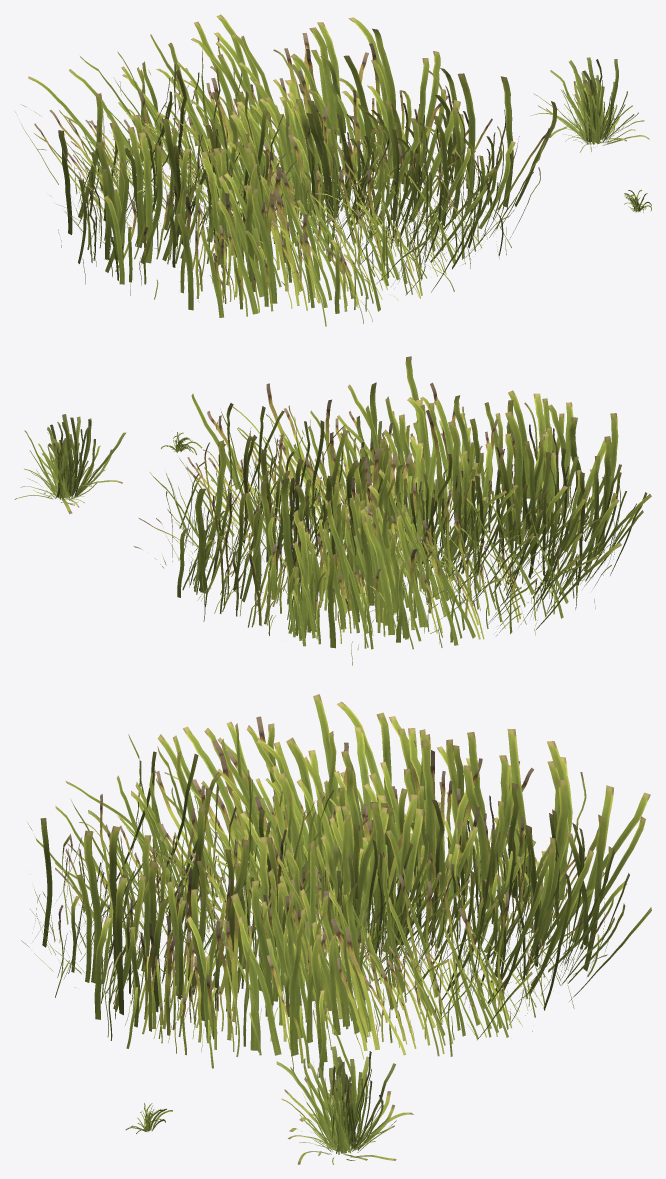
The model's file is grass.glb.
The picture shows the model from 3 angles, top to bottom: view 1: azimuth 30°, elevation 25°; view 2: azimuth 150°, elevation 25°; view 3: azimuth 270°, elevation 25°; orthographic projection. The views are drawn at different scales.
Parts seen in each view (by area): view 1: GrassLawnAutumn, Grass1; view 2: GrassLawnAutumn, Grass1; view 3: GrassLawnAutumn, Grass1.
Part boxes in pixels (x1=…): GrassLawnAutumn: x1=15, y1=14, x2=556, y2=326; Grass1: x1=531, y1=57, x2=649, y2=152; GrassLawnAutumn: x1=133, y1=356, x2=651, y2=665; Grass1: x1=14, y1=414, x2=126, y2=514; GrassLawnAutumn: x1=21, y1=694, x2=651, y2=1077; Grass1: x1=276, y1=1046, x2=413, y2=1164.
Bounding box in the file's own units: 4.79 × 1.02 × 3.57.
Materials: 9 (9 with a texture image).
